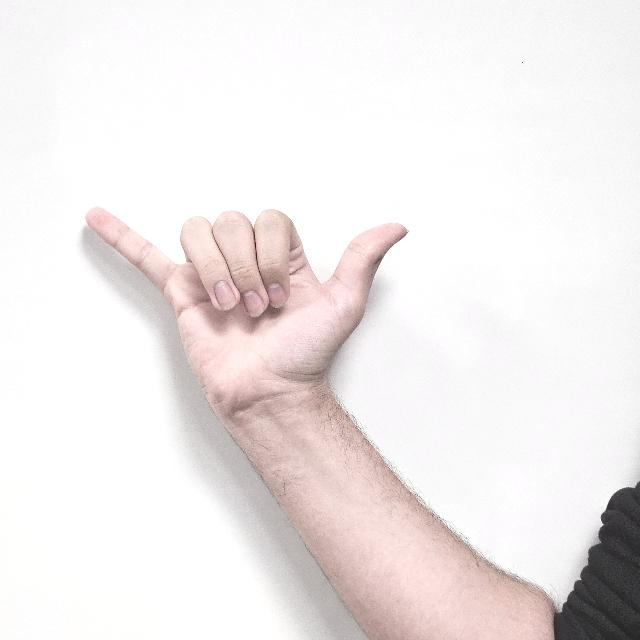Direita: (77, 186, 407, 412)
